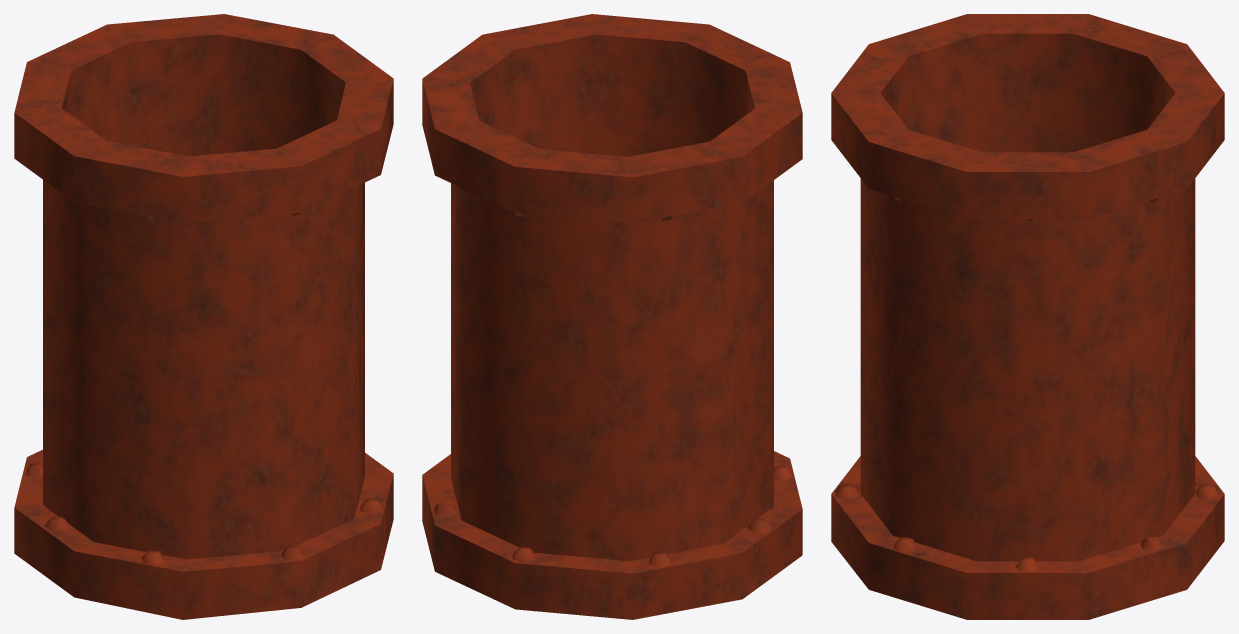
File: CanoGrossoReto.fbx
3 views of the same model, side by side, from view 1: azimuth 30°, elevation 25°; view 2: azimuth 150°, elevation 25°; view 3: azimuth 270°, elevation 25° (orthographic).
Visible parts, largest first — view 1: CanoGrossoRetoLowPoly; view 2: CanoGrossoRetoLowPoly; view 3: CanoGrossoRetoLowPoly.
Boxes of the visible parts, bbox=[...] form: CanoGrossoRetoLowPoly: bbox=[14, 14, 393, 619]; CanoGrossoRetoLowPoly: bbox=[422, 14, 802, 619]; CanoGrossoRetoLowPoly: bbox=[831, 14, 1224, 619].
Size of the model in its own units: 76.03 by 101 by 79.94.
